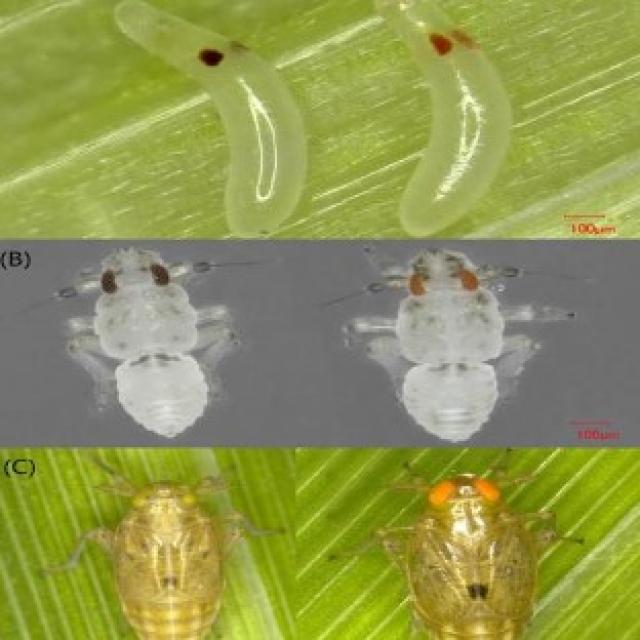brown plant hopper: (115, 0, 306, 236), (335, 470, 581, 638), (343, 250, 558, 441), (43, 462, 246, 638), (57, 248, 236, 437), (375, 0, 511, 234)
